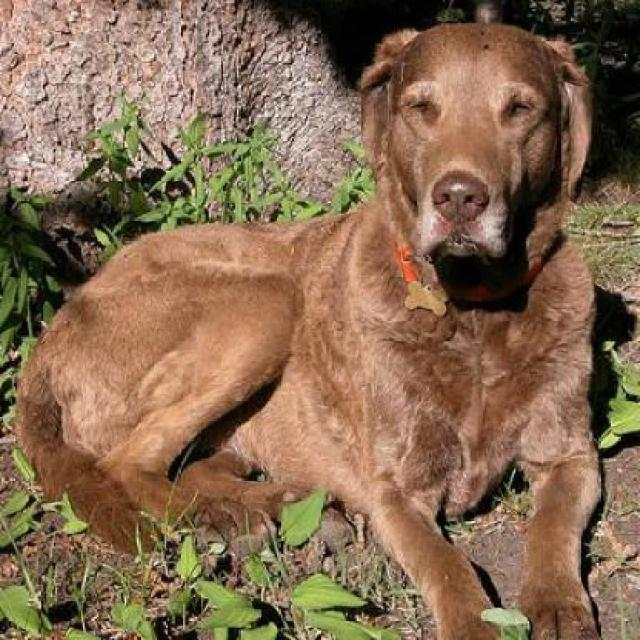Dog: (11, 19, 609, 638)
